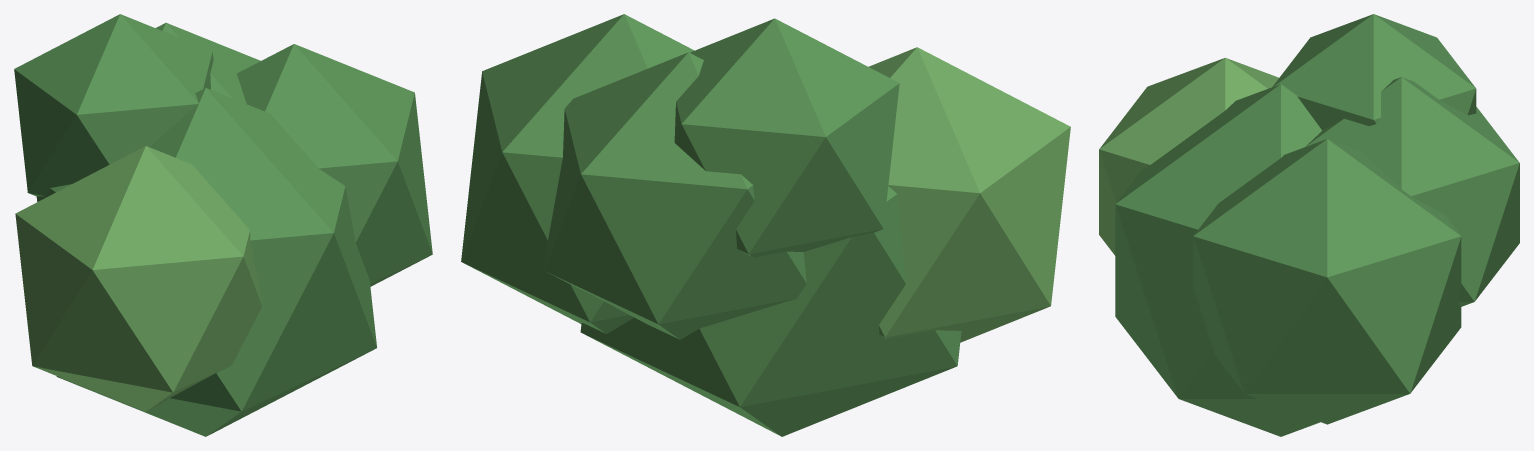
The model's file is xy_nat_bush.glb.
The picture shows the model from 3 angles, left to right: view 1: azimuth 30°, elevation 25°; view 2: azimuth 150°, elevation 25°; view 3: azimuth 270°, elevation 25°; orthographic projection. The views are drawn at different scales.
Parts seen in each view (by area): view 1: xy_nat_bush; view 2: xy_nat_bush; view 3: xy_nat_bush.
Boxes of the visible parts, left/top/right/bottom form: xy_nat_bush: left=14, top=14, right=432, bottom=436; xy_nat_bush: left=461, top=14, right=1070, bottom=436; xy_nat_bush: left=1099, top=14, right=1519, bottom=436.
Size of the model in its own units: 1.09 by 0.96 by 0.9074.
